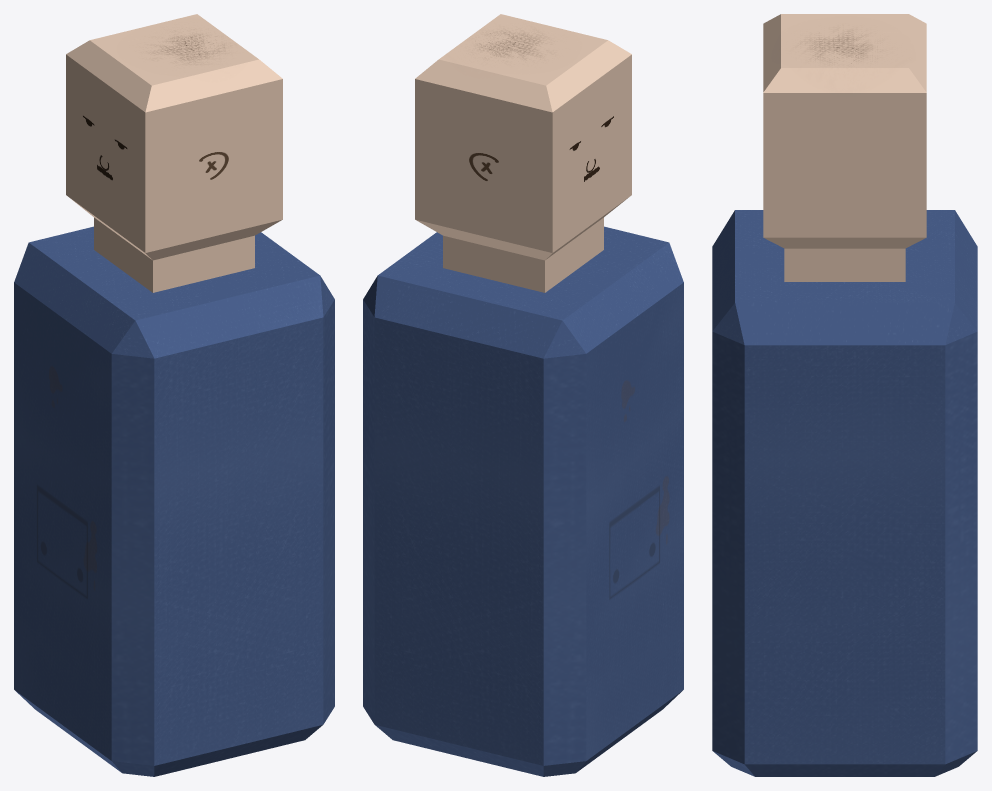
Rendered from witness.glb.
3 views of the same model, side by side, from view 1: azimuth 30°, elevation 25°; view 2: azimuth 150°, elevation 25°; view 3: azimuth 270°, elevation 25° (orthographic). The views are drawn at different scales.
Parts seen in each view (by area): view 1: Cube.004; view 2: Cube.004; view 3: Cube.004.
Boxes of the visible parts, bbox=[...] form: Cube.004: bbox=[14, 14, 334, 776]; Cube.004: bbox=[363, 14, 683, 776]; Cube.004: bbox=[712, 14, 977, 776].
Size of the model in its own units: 0.6964 by 1.99 by 0.6964.
1 material, 1 textured.
